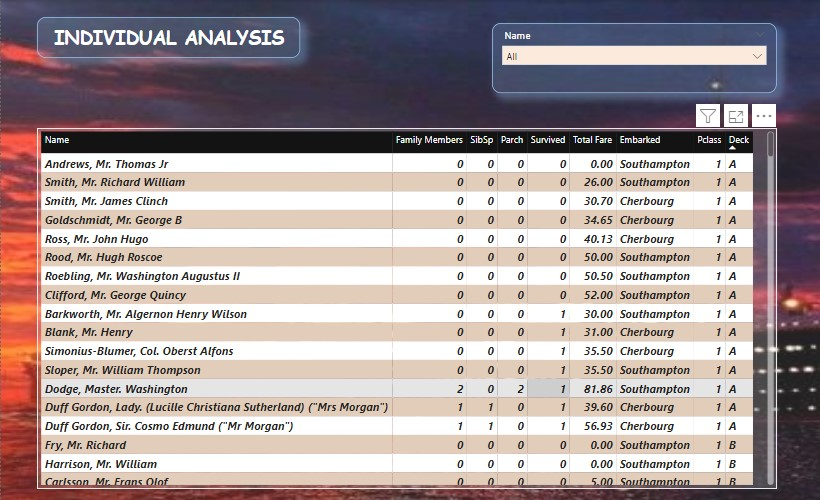

Layout of this report page (visuals, bound fields, positions):
{"tool":"powerbi","page":{"name":"Individual","canvas":[1280,720],"ordinal":2},"visuals":[{"type":"slicer","fields":{"Values":["Titanic_Survival.Name"]},"box":[707.5,33.8,410,101.2],"z":0},{"type":"tableEx","fields":{"Values":["Titanic_Survival.Name","Titanic_Survival.Family Members","Titanic_Survival.SibSp","Titanic_Survival.Parch","Titanic_Survival.Survived","Titanic_Survival.Total Fare","Titanic_Survival.Embarked","Titanic_Survival.Pclass","Titanic_Survival.Deck"]},"box":[51.2,185,1066.2,518.8],"z":1000},{"type":"textbox","box":[51.2,25,378.8,58.8],"z":1001}]}

Visuals, with their boxes on the page's 1280x720 design canvas (x1, y1, x2, y2). These are canvas units, not pixel positions in the 820x500 screenshot, which may show the page scaled, cropped or inside an application window:
slicer - Titanic_Survival.Name: Rect(708, 34, 1118, 135)
tableEx - Titanic_Survival.Name x Titanic_Survival.Family Members: Rect(51, 185, 1117, 704)
textbox: Rect(51, 25, 430, 84)
